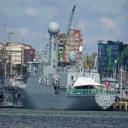Fragata: (15, 21, 119, 111)
